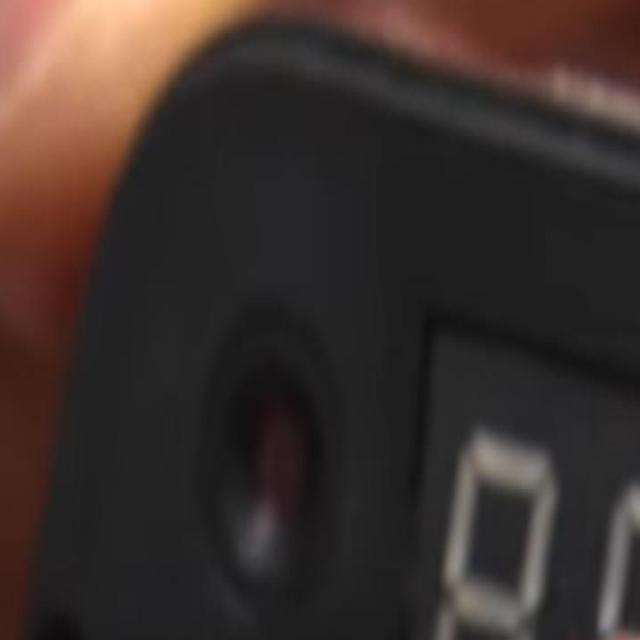hidden camera: (245, 383, 314, 542)
